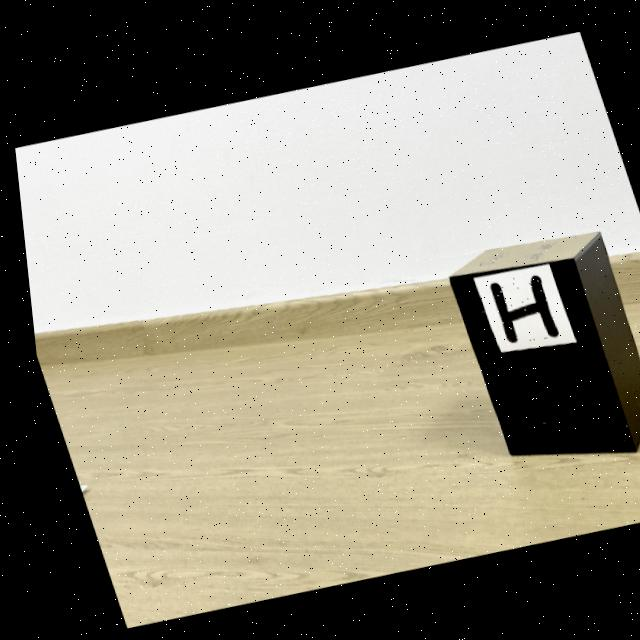H: (484, 272, 552, 340)
